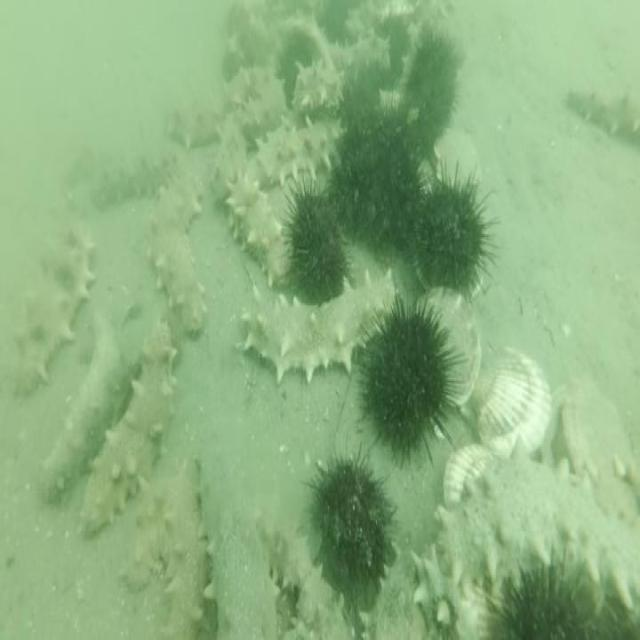echinus: (353, 283, 468, 469), (303, 428, 397, 598), (330, 119, 430, 259), (412, 156, 498, 310), (473, 547, 597, 640), (280, 177, 354, 302), (404, 31, 462, 138), (277, 30, 319, 101), (376, 14, 411, 66), (314, 0, 349, 46)
holothurian: (434, 433, 640, 607), (75, 316, 181, 542), (237, 266, 399, 394), (37, 306, 130, 510), (192, 437, 282, 640), (116, 456, 212, 640), (9, 218, 97, 403), (253, 507, 351, 640), (144, 169, 213, 343), (226, 168, 292, 292), (410, 539, 490, 640), (165, 63, 252, 152), (255, 109, 345, 187), (91, 142, 181, 214), (360, 539, 422, 640), (564, 78, 640, 154), (206, 114, 252, 210), (235, 74, 287, 146), (290, 57, 346, 118), (327, 30, 392, 73), (396, 20, 423, 91), (346, 0, 381, 43)
scallop: (469, 341, 553, 457), (540, 376, 634, 474), (416, 286, 482, 409), (414, 251, 486, 302), (442, 444, 491, 514), (434, 128, 484, 194)
